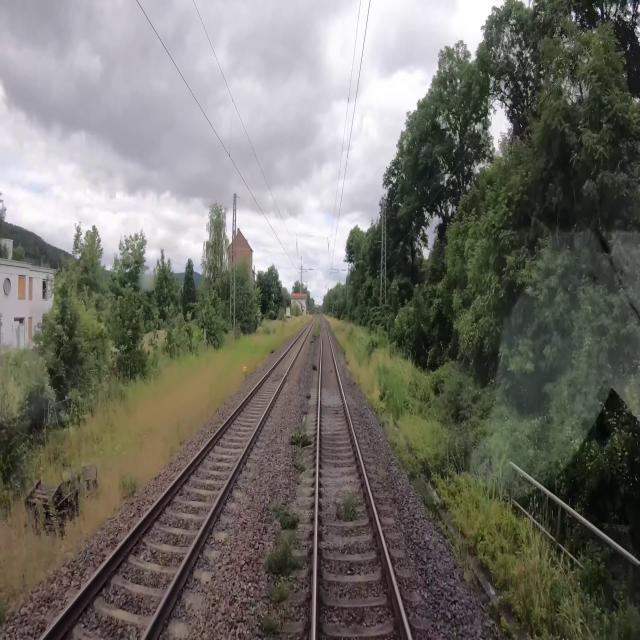Plant: (325, 313, 477, 595), (261, 537, 307, 576), (269, 497, 300, 531), (336, 486, 360, 522), (290, 422, 313, 450), (258, 608, 279, 638), (267, 575, 288, 604), (292, 454, 308, 474), (314, 314, 321, 334)
